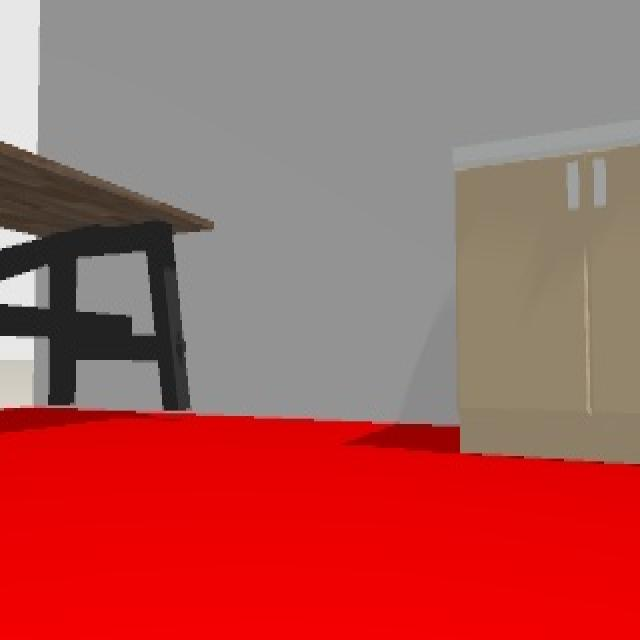dining: (1, 138, 215, 408)
